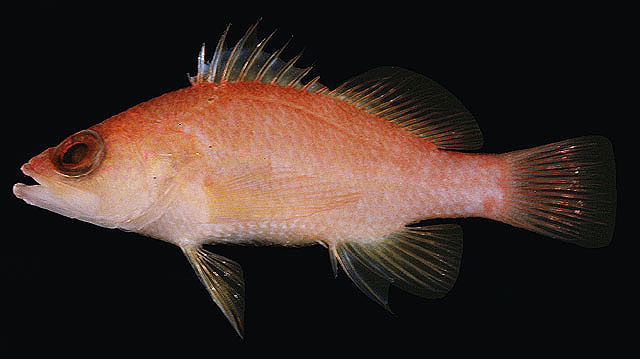fish: (12, 19, 615, 343)
